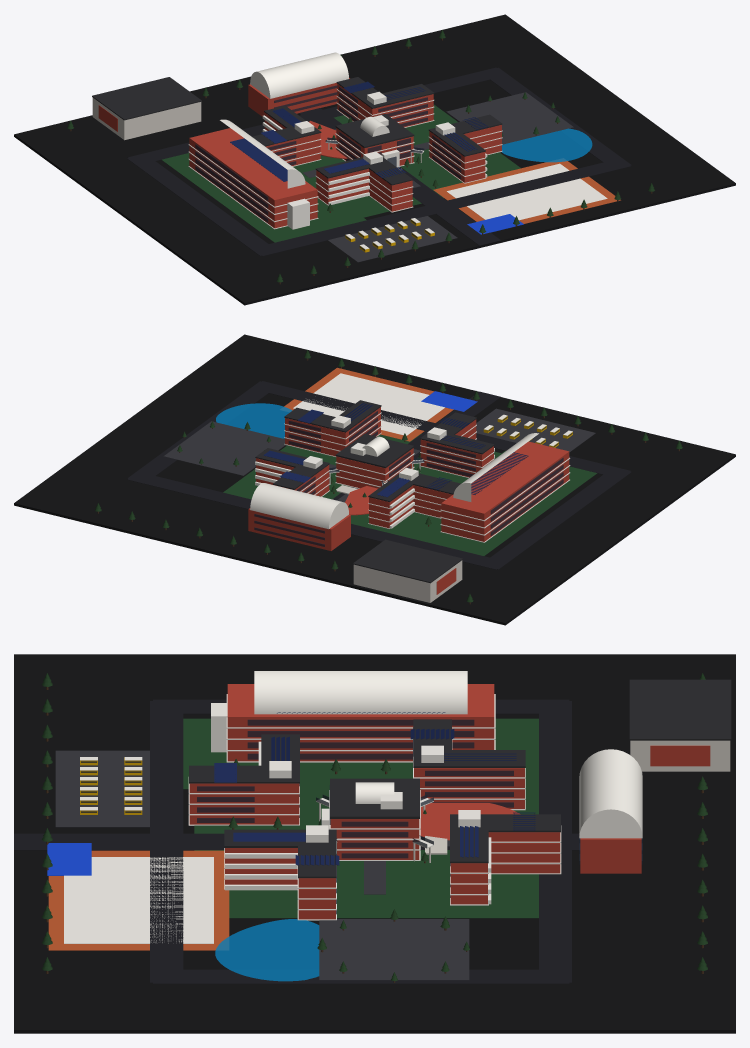
Rendered from vvit-campus.glb.
3 views of the same model, one above another, from view 1: azimuth 30°, elevation 25°; view 2: azimuth 150°, elevation 25°; view 3: azimuth 270°, elevation 25° (orthographic). The views are drawn at different scales.
Visible parts, largest first — view 1: Base_Terrain, Aruna_Core, Track_Lines, Central_Complex_Lawn, Ring_Road_South, West_Lawn, Pond_Bank, H_BLOCK, Viva_Roof, Bus_Lot_Base, Road_West, VVIT_POND (+15 smaller); view 2: Base_Terrain, Aruna_Core, Track_Lines, Pond_Bank, West_Lawn, Central_Complex_Lawn, H_BLOCK, Ring_Road_North, Viva_Roof, Ring_Road_South, Road_West, H_Block_Core (+15 smaller); view 3: Base_Terrain, Central_Complex_Lawn, Track_Lines, Aruna_Core, ARUNA_1, Ring_Road_South, Pond_Bank, Ring_Road_North, Viva_Roof, Bus_Lot_Base, Roof_Slab1 (×4), H_BLOCK (+31 smaller).
Boxes of the visible parts, box(x1,y1,x2,y2) form: Base_Terrain: box(14, 14, 735, 305); Aruna_Core: box(189, 128, 317, 228); Track_Lines: box(447, 163, 607, 220); Central_Complex_Lawn: box(293, 104, 520, 224); Ring_Road_South: box(252, 158, 630, 256); West_Lawn: box(161, 153, 366, 242); Pond_Bank: box(446, 92, 573, 144); H_BLOCK: box(250, 52, 348, 98); Viva_Roof: box(92, 77, 201, 120); Bus_Lot_Base: box(328, 216, 457, 262); Road_West: box(127, 158, 269, 255); VVIT_POND: box(501, 128, 592, 162); Base_Terrain: box(14, 334, 735, 625); Aruna_Core: box(441, 441, 569, 541); Track_Lines: box(293, 373, 444, 435); Pond_Bank: box(164, 421, 285, 475); West_Lawn: box(392, 450, 597, 555); Central_Complex_Lawn: box(223, 433, 502, 540); H_BLOCK: box(250, 483, 348, 529); Ring_Road_North: box(128, 472, 506, 569); Viva_Roof: box(353, 539, 462, 583); Ring_Road_South: box(253, 381, 630, 478); Road_West: box(481, 471, 631, 569); H_Block_Core: box(248, 508, 350, 550); Base_Terrain: box(14, 654, 735, 1033); Central_Complex_Lawn: box(194, 765, 538, 918); Track_Lines: box(64, 857, 213, 943); Aruna_Core: box(227, 684, 494, 761); ARUNA_1: box(254, 671, 467, 714); Ring_Road_South: box(150, 701, 183, 982); Pond_Bank: box(319, 919, 469, 980); Ring_Road_North: box(539, 701, 571, 982); Viva_Roof: box(629, 679, 731, 740); Bus_Lot_Base: box(55, 750, 149, 827); Roof_Slab1 (×4): box(224, 734, 525, 863); H_BLOCK: box(579, 749, 642, 838).
Size of the model in its own units: 320 by 31.26 by 260.
